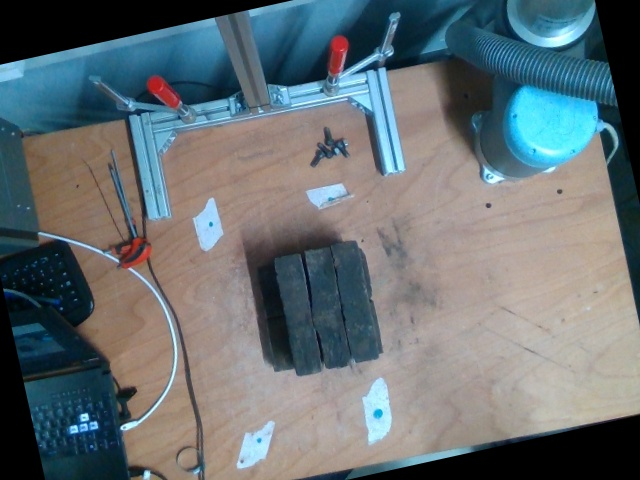brick-side: (276, 254, 320, 374), (332, 242, 376, 361), (305, 250, 349, 369)
